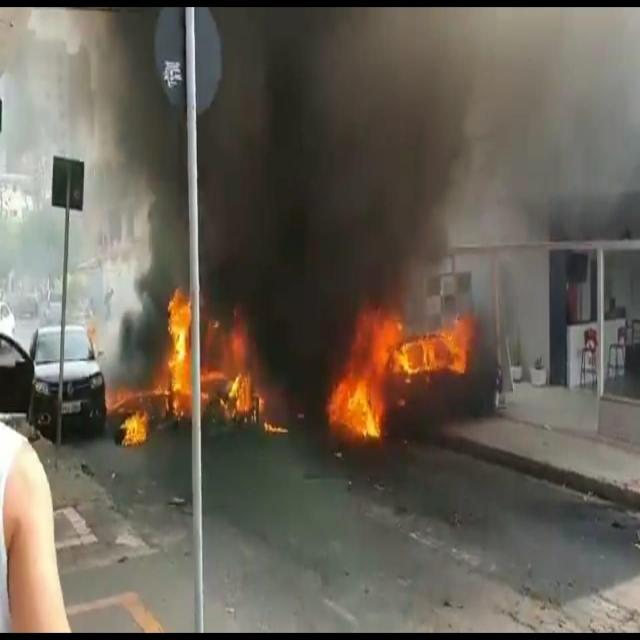Fire: (330, 306, 467, 440), (166, 289, 190, 418), (222, 365, 262, 418), (120, 411, 150, 449), (262, 418, 288, 436)
